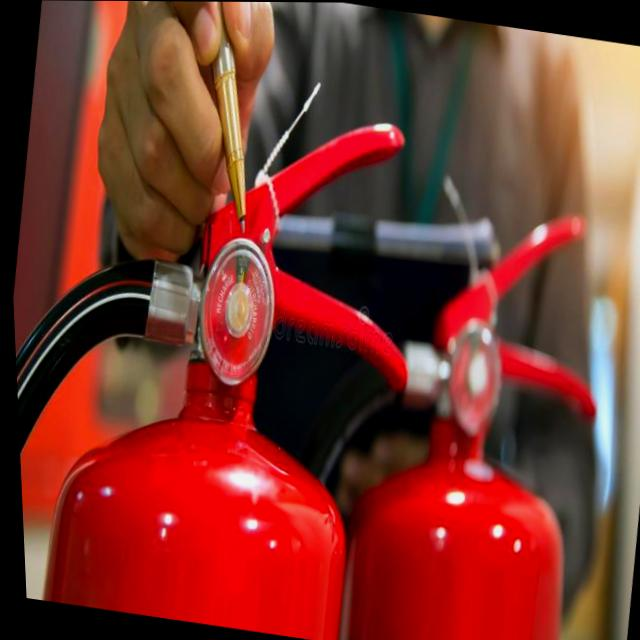FireExtinguisher: (2, 56, 452, 640), (250, 168, 633, 640)
